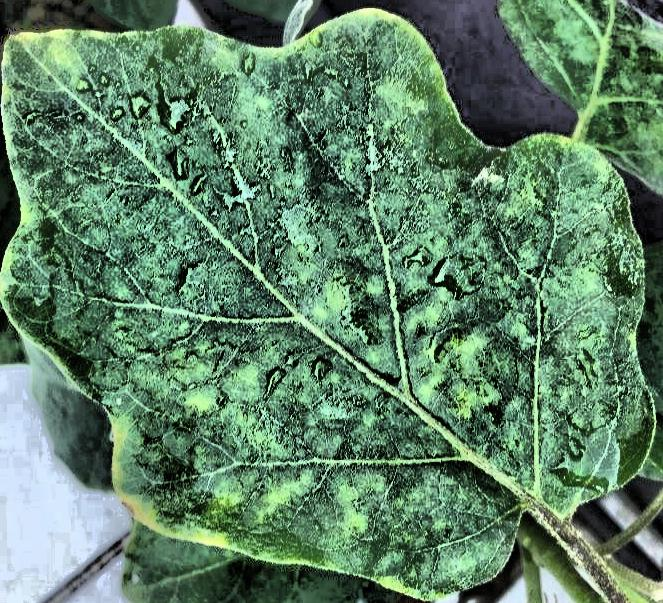Non-critical Stress: (1, 0, 663, 603)
